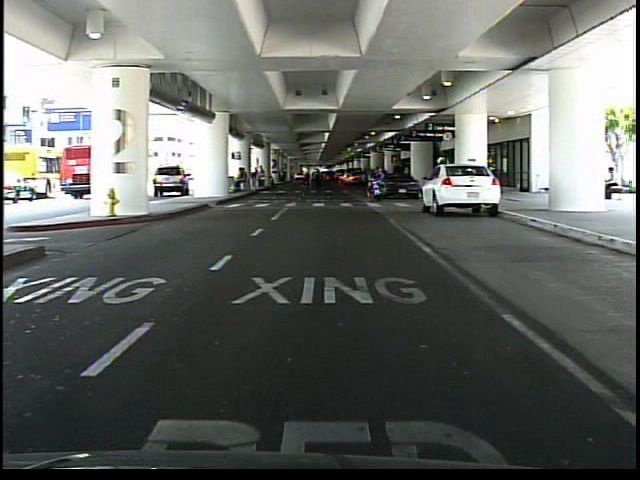person: (596, 164, 624, 201), (432, 152, 449, 210)
